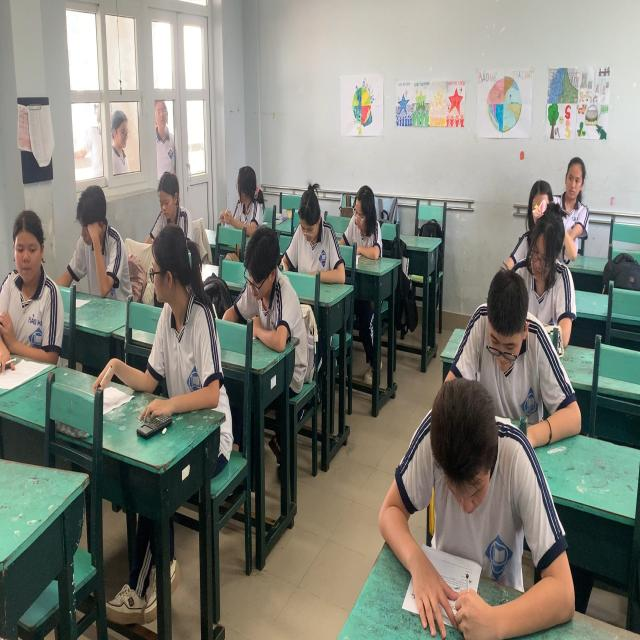cheating: (134, 216, 244, 454), (0, 185, 64, 375)
not_cheating: (364, 390, 571, 558), (446, 246, 566, 449), (214, 190, 313, 389), (53, 143, 145, 325), (510, 184, 586, 360), (261, 158, 347, 311), (318, 146, 404, 295), (125, 146, 211, 288), (194, 122, 275, 262), (549, 116, 589, 294)
